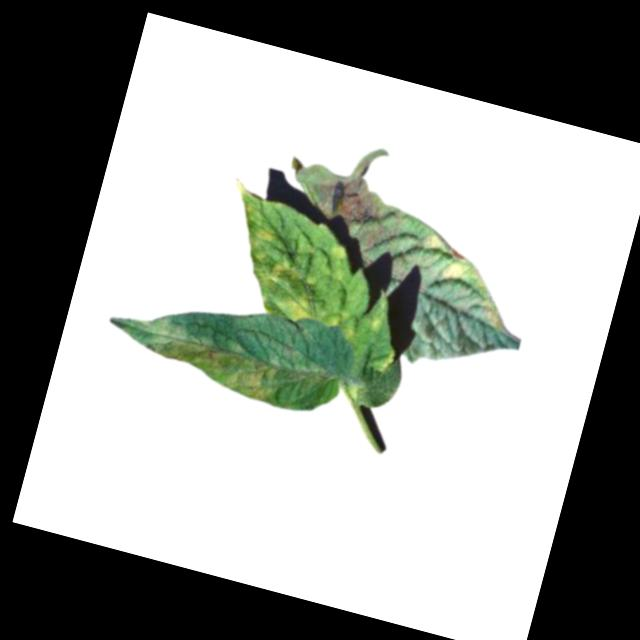Leaf_Mold: (97, 304, 289, 406), (406, 228, 523, 330), (283, 286, 324, 326), (264, 254, 308, 290), (248, 223, 277, 250)
